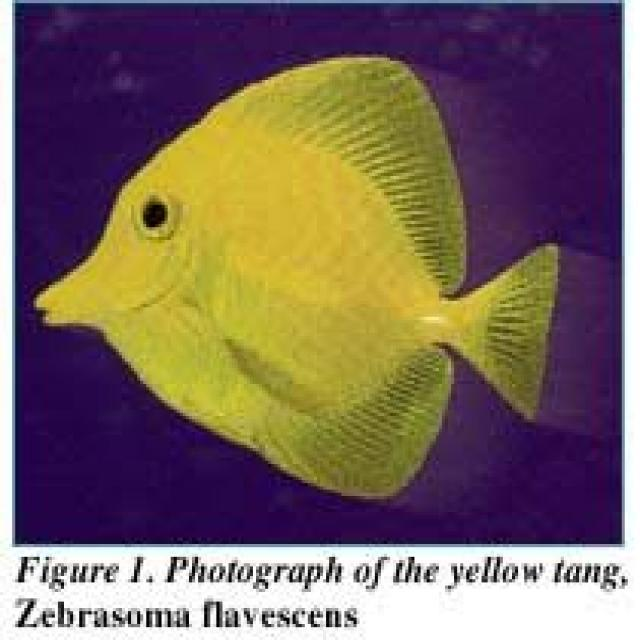YellowTang: (18, 36, 610, 504)
